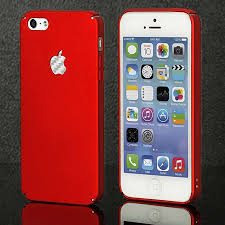iphone: (15, 7, 104, 205), (117, 7, 197, 207)
iphone5: (15, 5, 104, 203), (116, 7, 196, 207)
